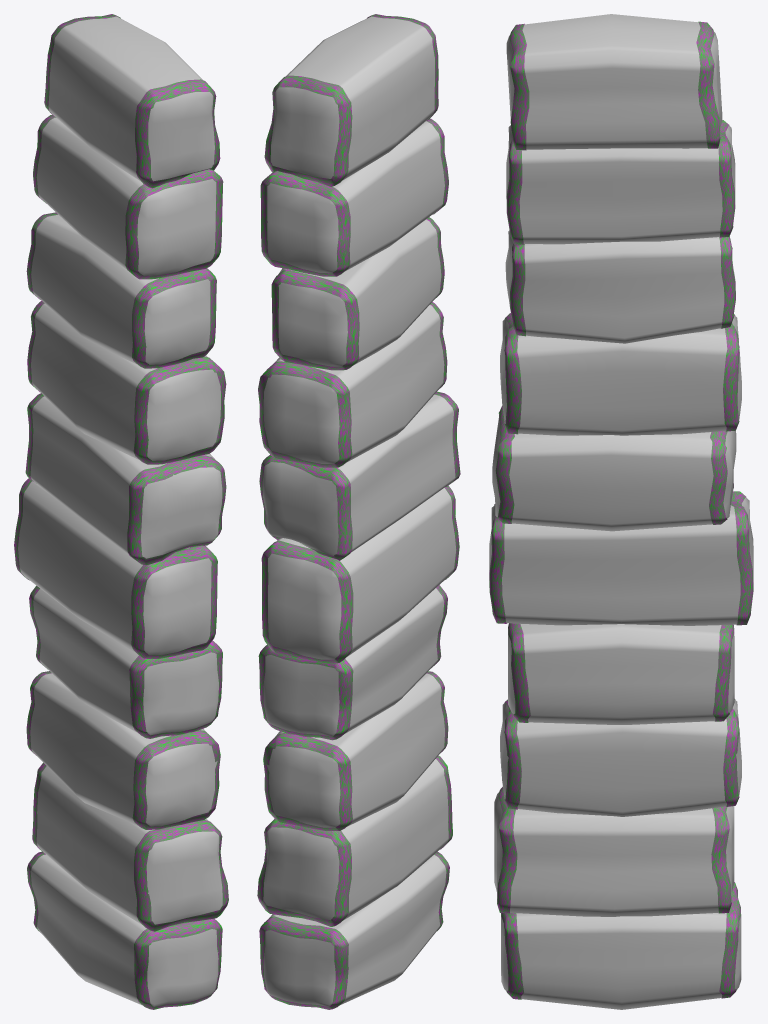
File: SM_planksA_a1.fbx
The picture shows the model from 3 angles, left to right: view 1: azimuth 30°, elevation 25°; view 2: azimuth 150°, elevation 25°; view 3: azimuth 270°, elevation 25°; orthographic projection. The views are drawn at different scales.
Parts seen in each view (by area): view 1: SM_planksA_a1_LOD0; view 2: SM_planksA_a1_LOD0; view 3: SM_planksA_a1_LOD0.
Boxes of the visible parts, x1,y1,x2,y2 form: SM_planksA_a1_LOD0: (14,14,228,1009); SM_planksA_a1_LOD0: (257,14,460,1009); SM_planksA_a1_LOD0: (489,14,753,1009).
Size of the model in its own units: 30.81 by 62.61 by 252.
3 materials, 1 textured.
